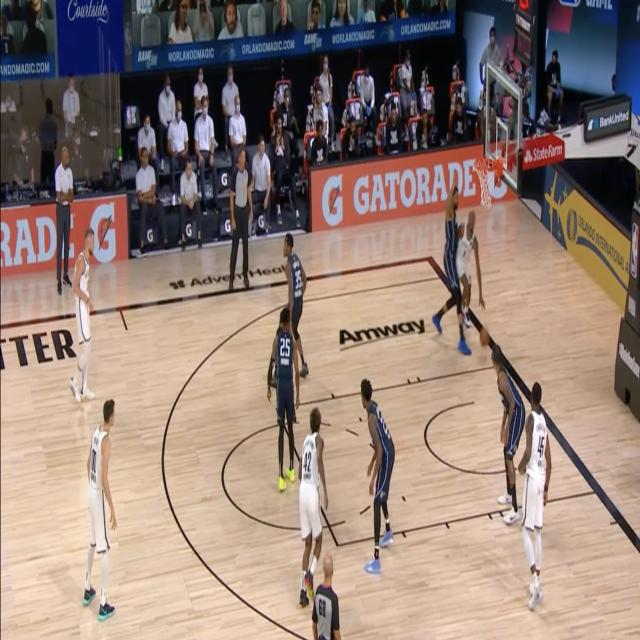Foul: (436, 167, 492, 359)
